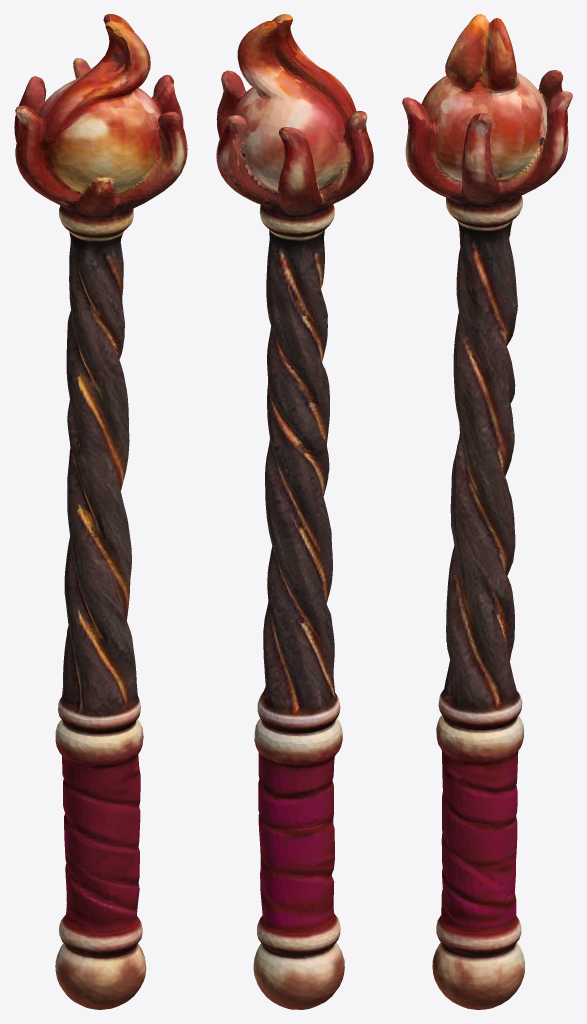
Rendered from wand_fire.glb.
The picture shows the model from 3 angles, left to right: view 1: azimuth 30°, elevation 25°; view 2: azimuth 150°, elevation 25°; view 3: azimuth 270°, elevation 25°; orthographic projection.
Parts seen in each view (by area): view 1: tmp8k9dqkl4.ply; view 2: tmp8k9dqkl4.ply; view 3: tmp8k9dqkl4.ply.
Part boxes in pixels (box(x1,y1,x2,y2)): tmp8k9dqkl4.ply: box(14, 14, 187, 1009); tmp8k9dqkl4.ply: box(216, 14, 373, 1009); tmp8k9dqkl4.ply: box(402, 14, 572, 1009).
Bounding box in the file's own units: 0.1669 × 1 × 0.1553.
1 material, 1 textured.
